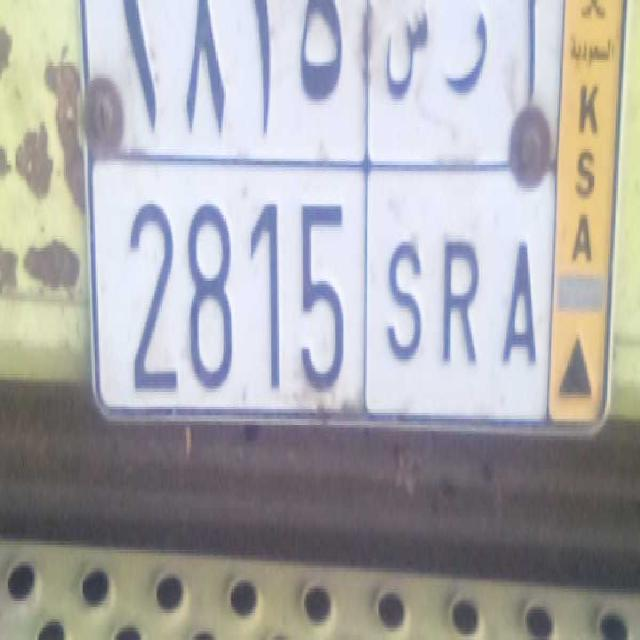license_plate: (92, 152, 546, 426)
